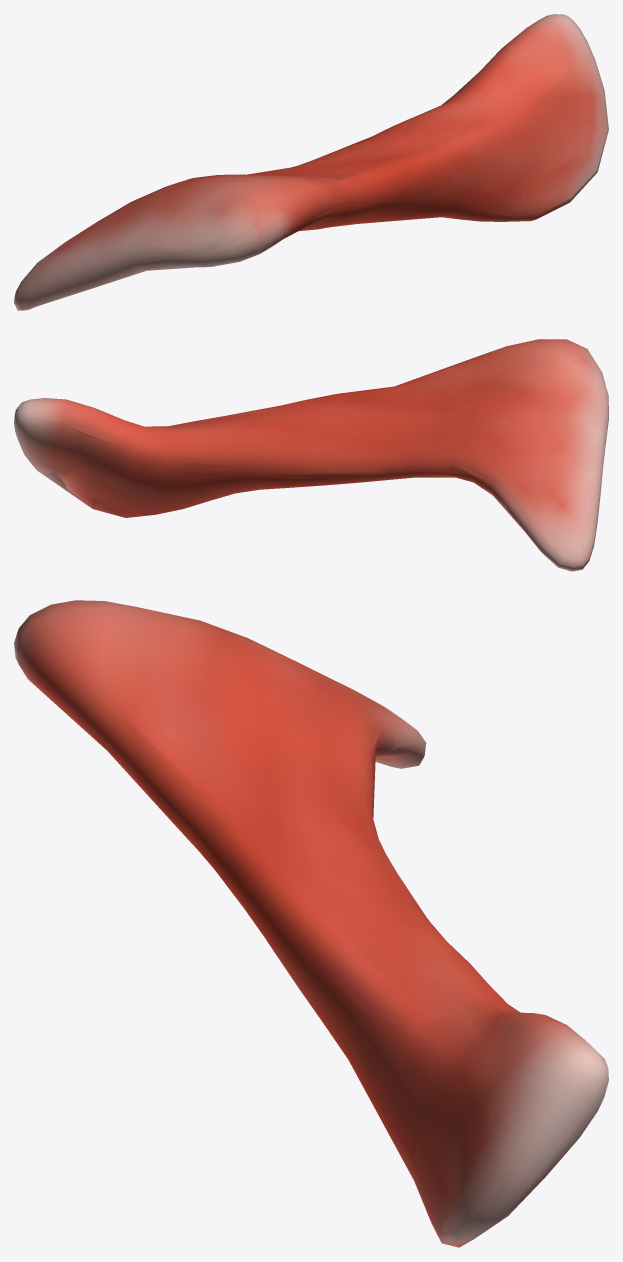
Rendered from L Gemelli.fbx.
3 views of the same model, one above another, from view 1: azimuth 30°, elevation 25°; view 2: azimuth 150°, elevation 25°; view 3: azimuth 270°, elevation 25° (orthographic). The views are drawn at different scales.
Parts seen in each view (by area): view 1: L Gemelli, L Gemelli low; view 2: L Gemelli, L Gemelli low; view 3: L Gemelli, L Gemelli low.
Part boxes in pixels (box(x1,y1,x2,y2)): L Gemelli: box(14, 14, 608, 310); L Gemelli low: box(17, 15, 604, 308); L Gemelli: box(14, 339, 608, 571); L Gemelli low: box(15, 340, 608, 568); L Gemelli: box(14, 600, 608, 1247); L Gemelli low: box(15, 600, 608, 1246).
Bounding box in the file's own units: 15.28 × 5.02 × 8.27.
